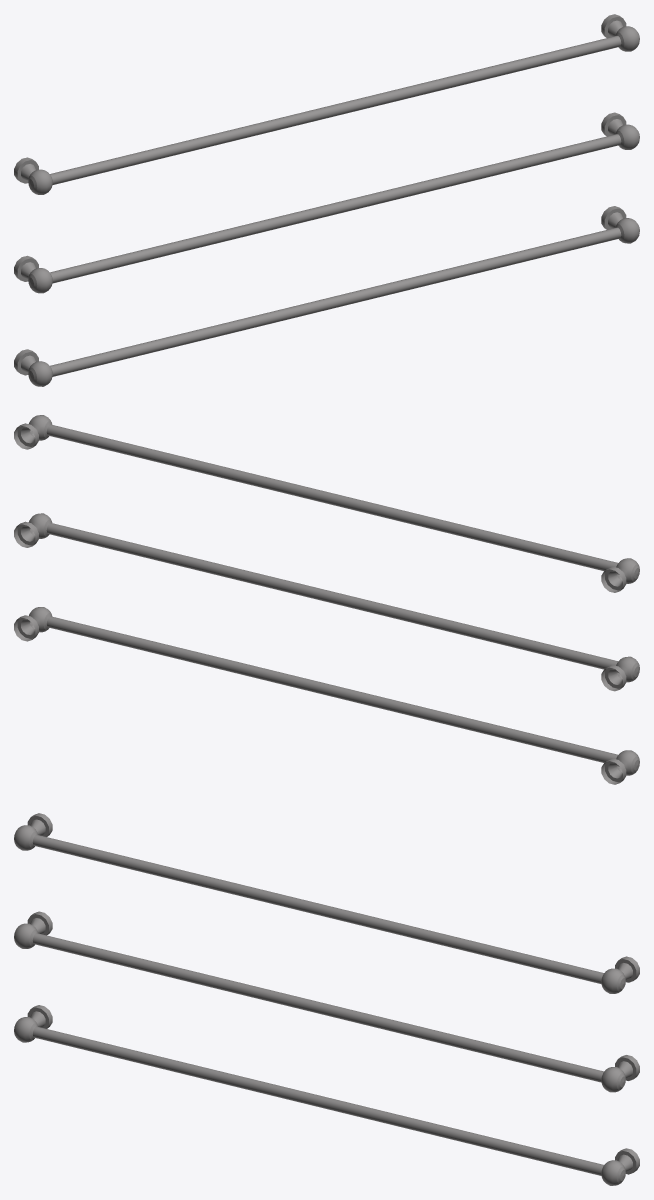
The model's file is SM_Curtain_Hanger_3.fbx.
The picture shows the model from 3 angles, top to bottom: view 1: azimuth 30°, elevation 25°; view 2: azimuth 150°, elevation 25°; view 3: azimuth 330°, elevation 25°; orthographic projection.
Visible parts, largest first — view 1: SM_Curtain_Hanger_3; view 2: SM_Curtain_Hanger_3; view 3: SM_Curtain_Hanger_3.
Boxes of the visible parts, left/top/right/bottom form: SM_Curtain_Hanger_3: left=14, top=14, right=639, bottom=386; SM_Curtain_Hanger_3: left=14, top=415, right=639, bottom=784; SM_Curtain_Hanger_3: left=14, top=813, right=639, bottom=1185.
Bounding box in the file's own units: 93.11 × 5.91 × 31.64.
Materials: 1 (1 with a texture image).
